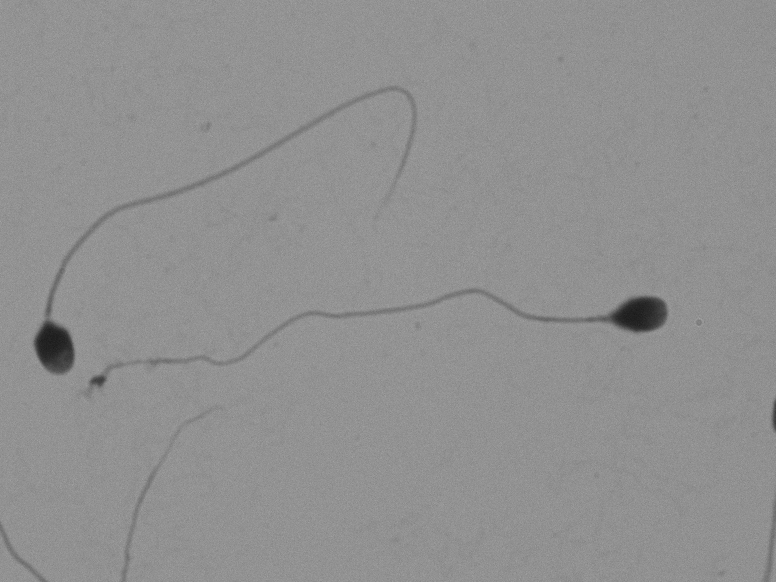Normal: (9, 73, 433, 386), (92, 255, 713, 424)
